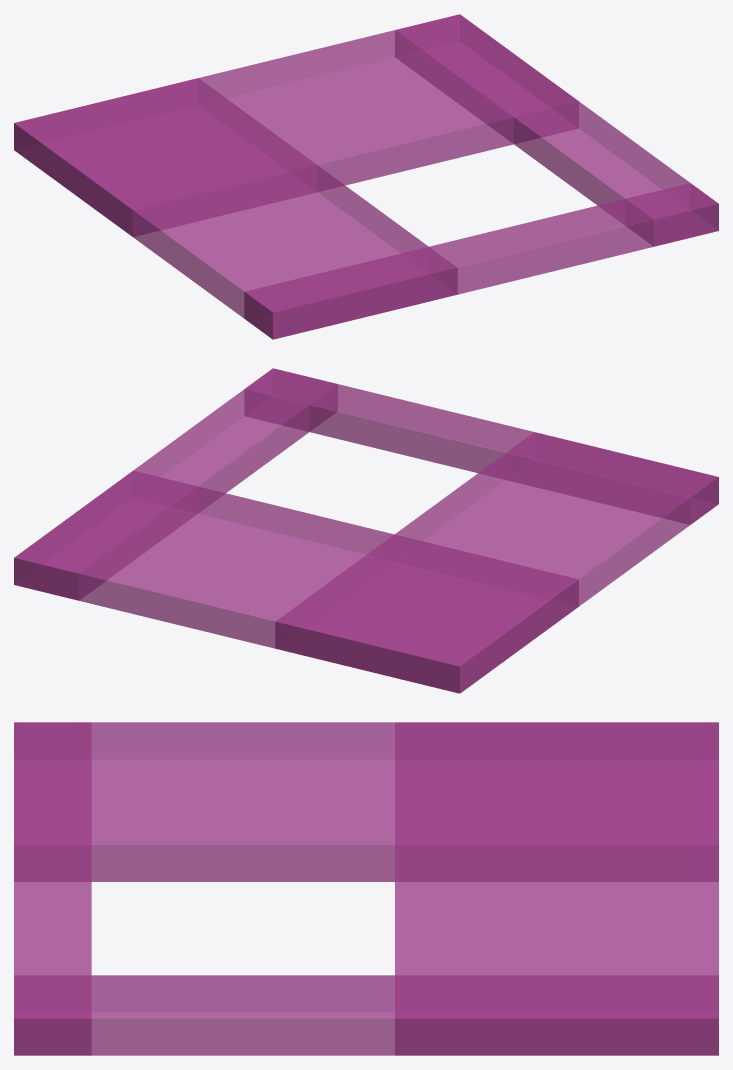
File: SM_Bld_Floor_02_Collision_01.fbx
3 views of the same model, one above another, from view 1: azimuth 30°, elevation 25°; view 2: azimuth 150°, elevation 25°; view 3: azimuth 270°, elevation 25° (orthographic). The views are drawn at different scales.
Visible parts, largest first — view 1: SM_Bld_Floor_02_Collision_01; view 2: SM_Bld_Floor_02_Collision_01; view 3: SM_Bld_Floor_02_Collision_01.
Part boxes in pixels (<box>): SM_Bld_Floor_02_Collision_01: <box>14,14,718,339</box>; SM_Bld_Floor_02_Collision_01: <box>14,368,718,693</box>; SM_Bld_Floor_02_Collision_01: <box>14,722,718,1055</box>.
Bounding box in the file's own units: 256 × 14.88 × 257.
